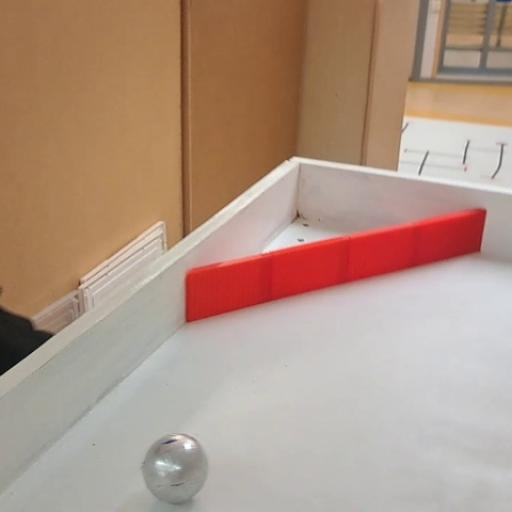alive: (139, 430, 211, 507)
